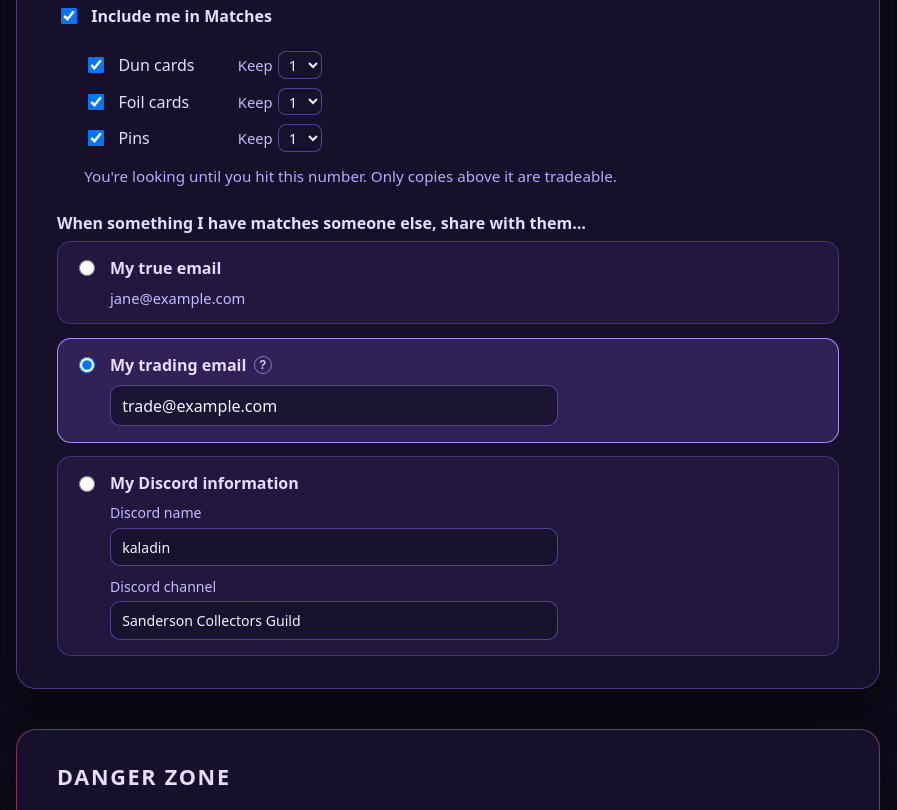
Test: AccountPage › resets sharing to true email when the selected trading email is cleared
(page scrolled)
Expected: the radio button labelled "My trading email" is checked, [79,357,95,373]
Clear the field named "Trading email". click: (334,406)
box: [110,385,558,426]
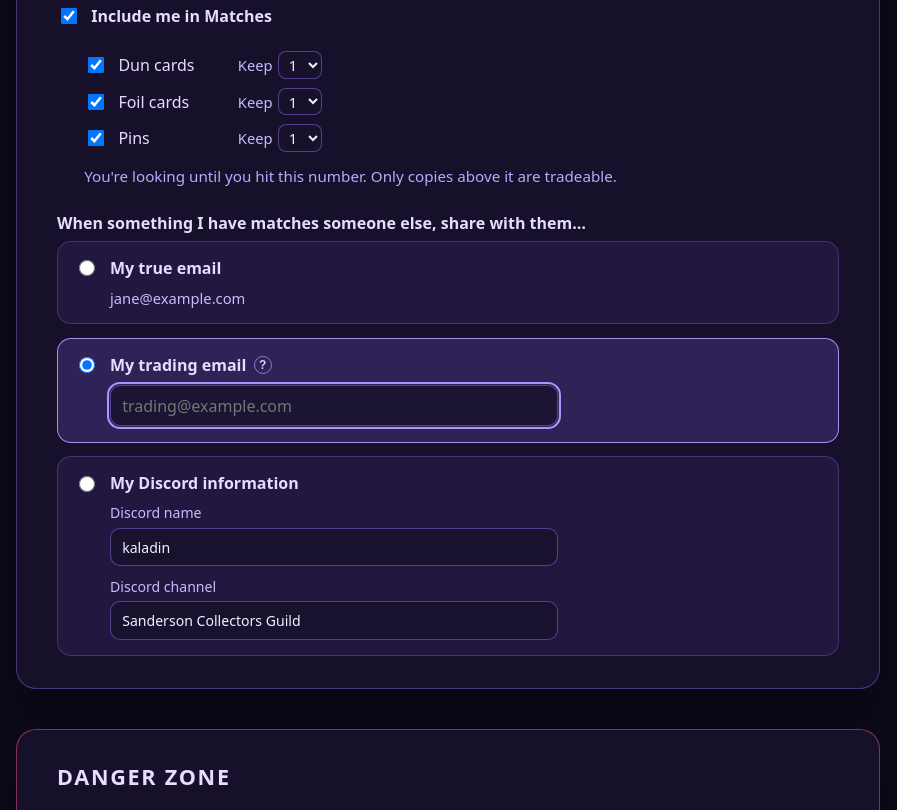
Press Tab
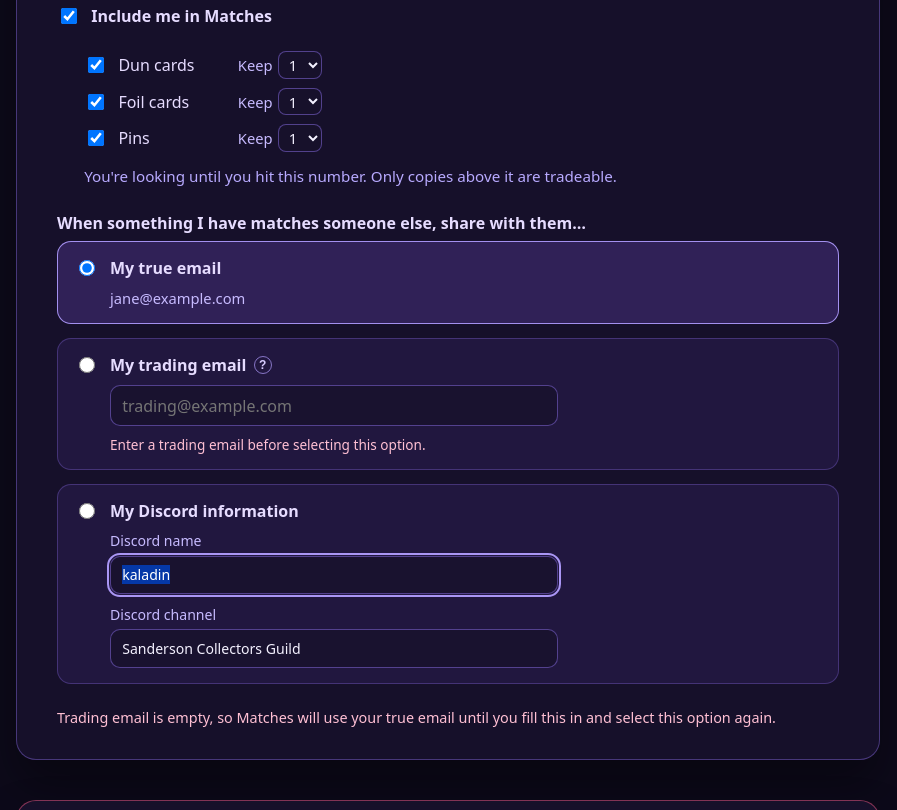
Result: the radio button labelled "My true email" is checked at [79,260,95,276]
Result: the text "Trading email is empty, so Matches will use your true email until you fill this in and select this option again." is shown at [57,708,776,727]
